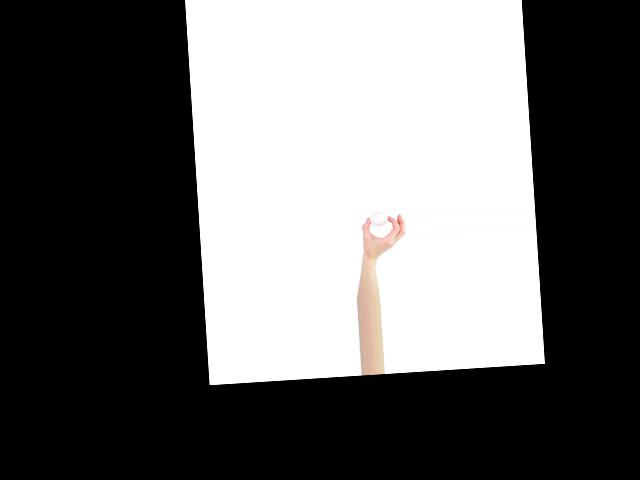egg: (369, 211, 388, 227)
